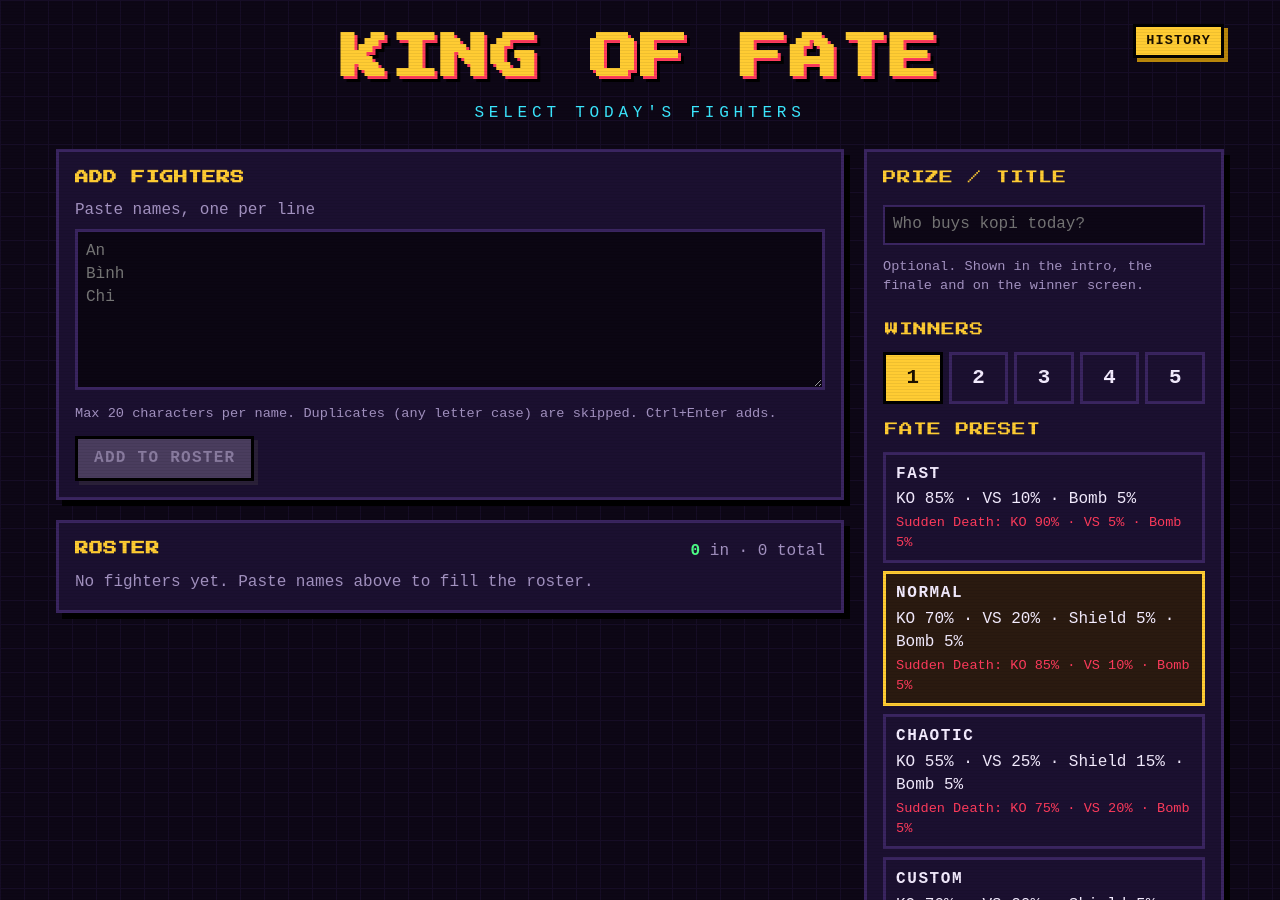
Test: History screen (Phase 6) › leaves out unreadable records with a notice
The width and height of the screenshot is (1280, 900).
Click the button "History": (1179, 41) [1133,24,1224,58]
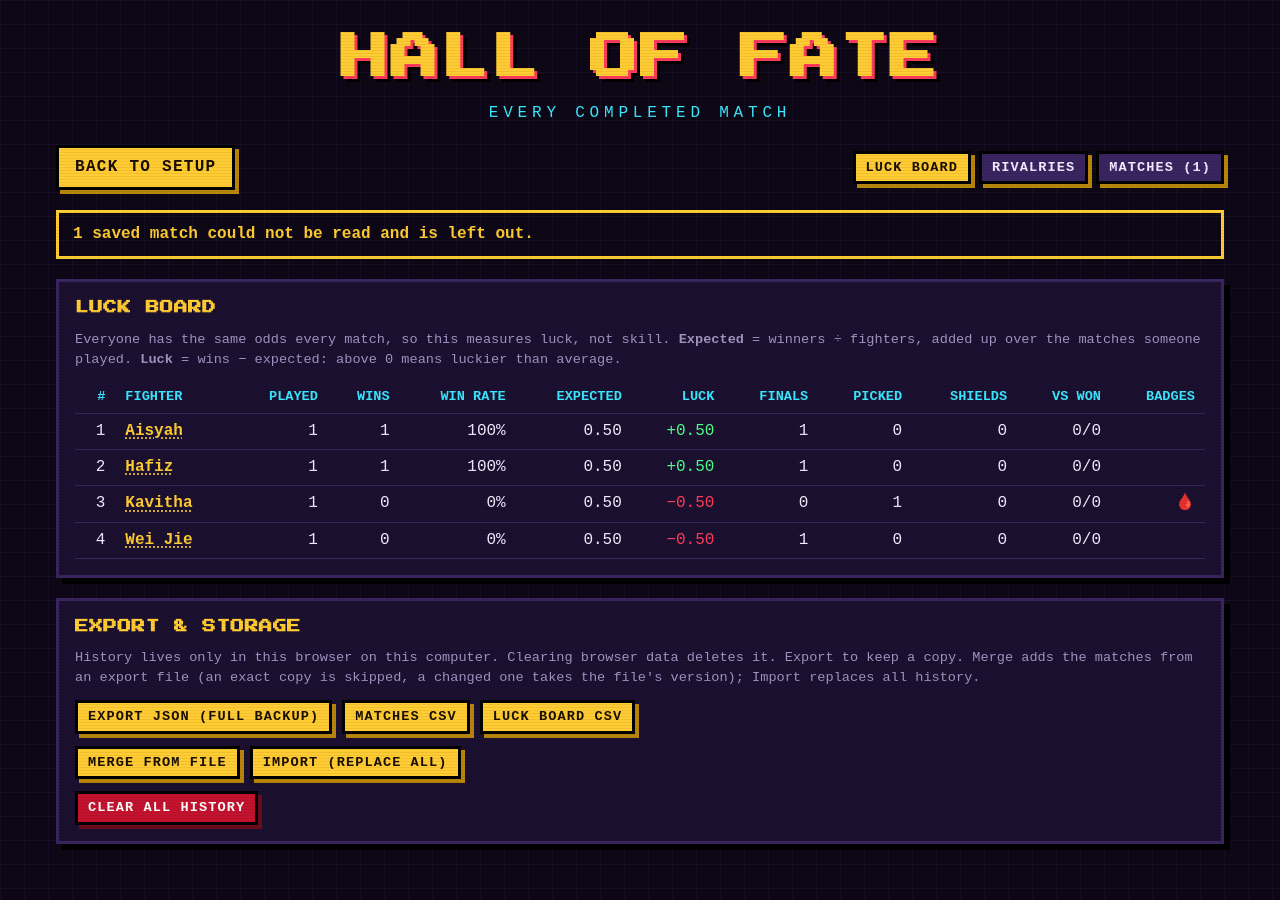
Result: the heading "Hall of Fate" is shown at [340,34,940,82]
Result: the message reads "1 saved match could not be read and is left out." at [56,210,1224,259]
Result: the button "Matches (1)" is shown at [1096,150,1224,184]
